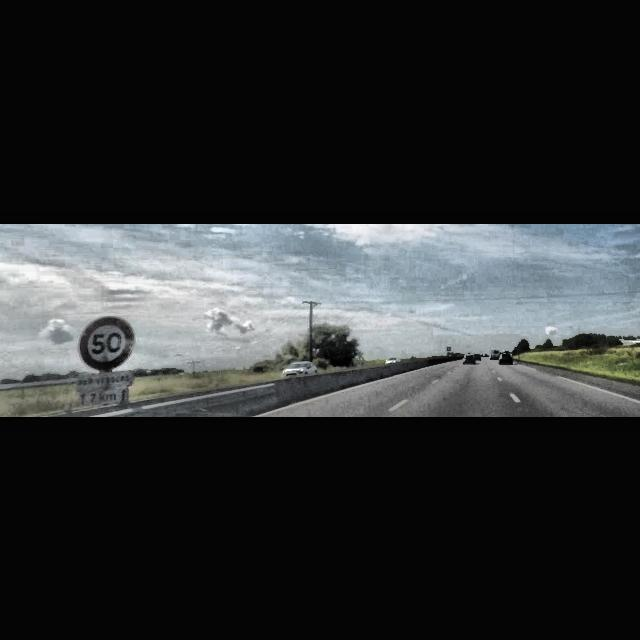speed_50: (80, 315, 136, 371)
